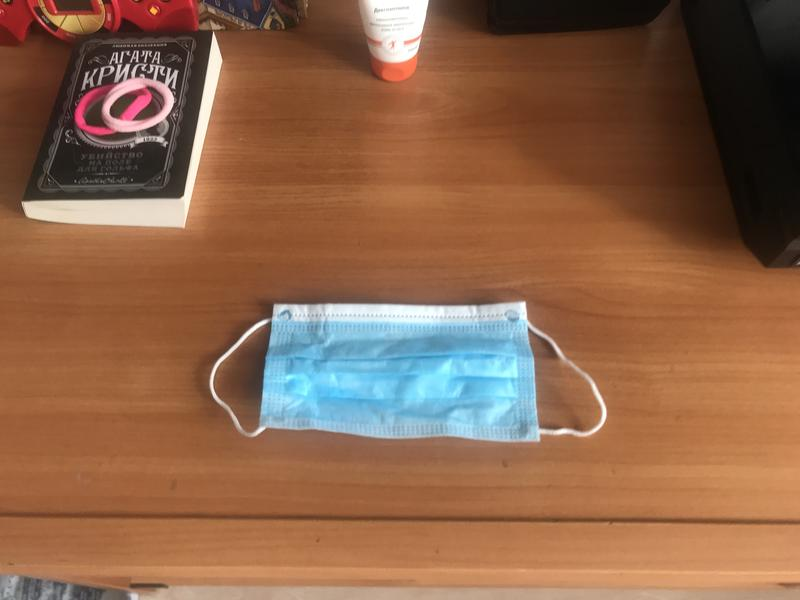medical_mask: (211, 303, 612, 448)
